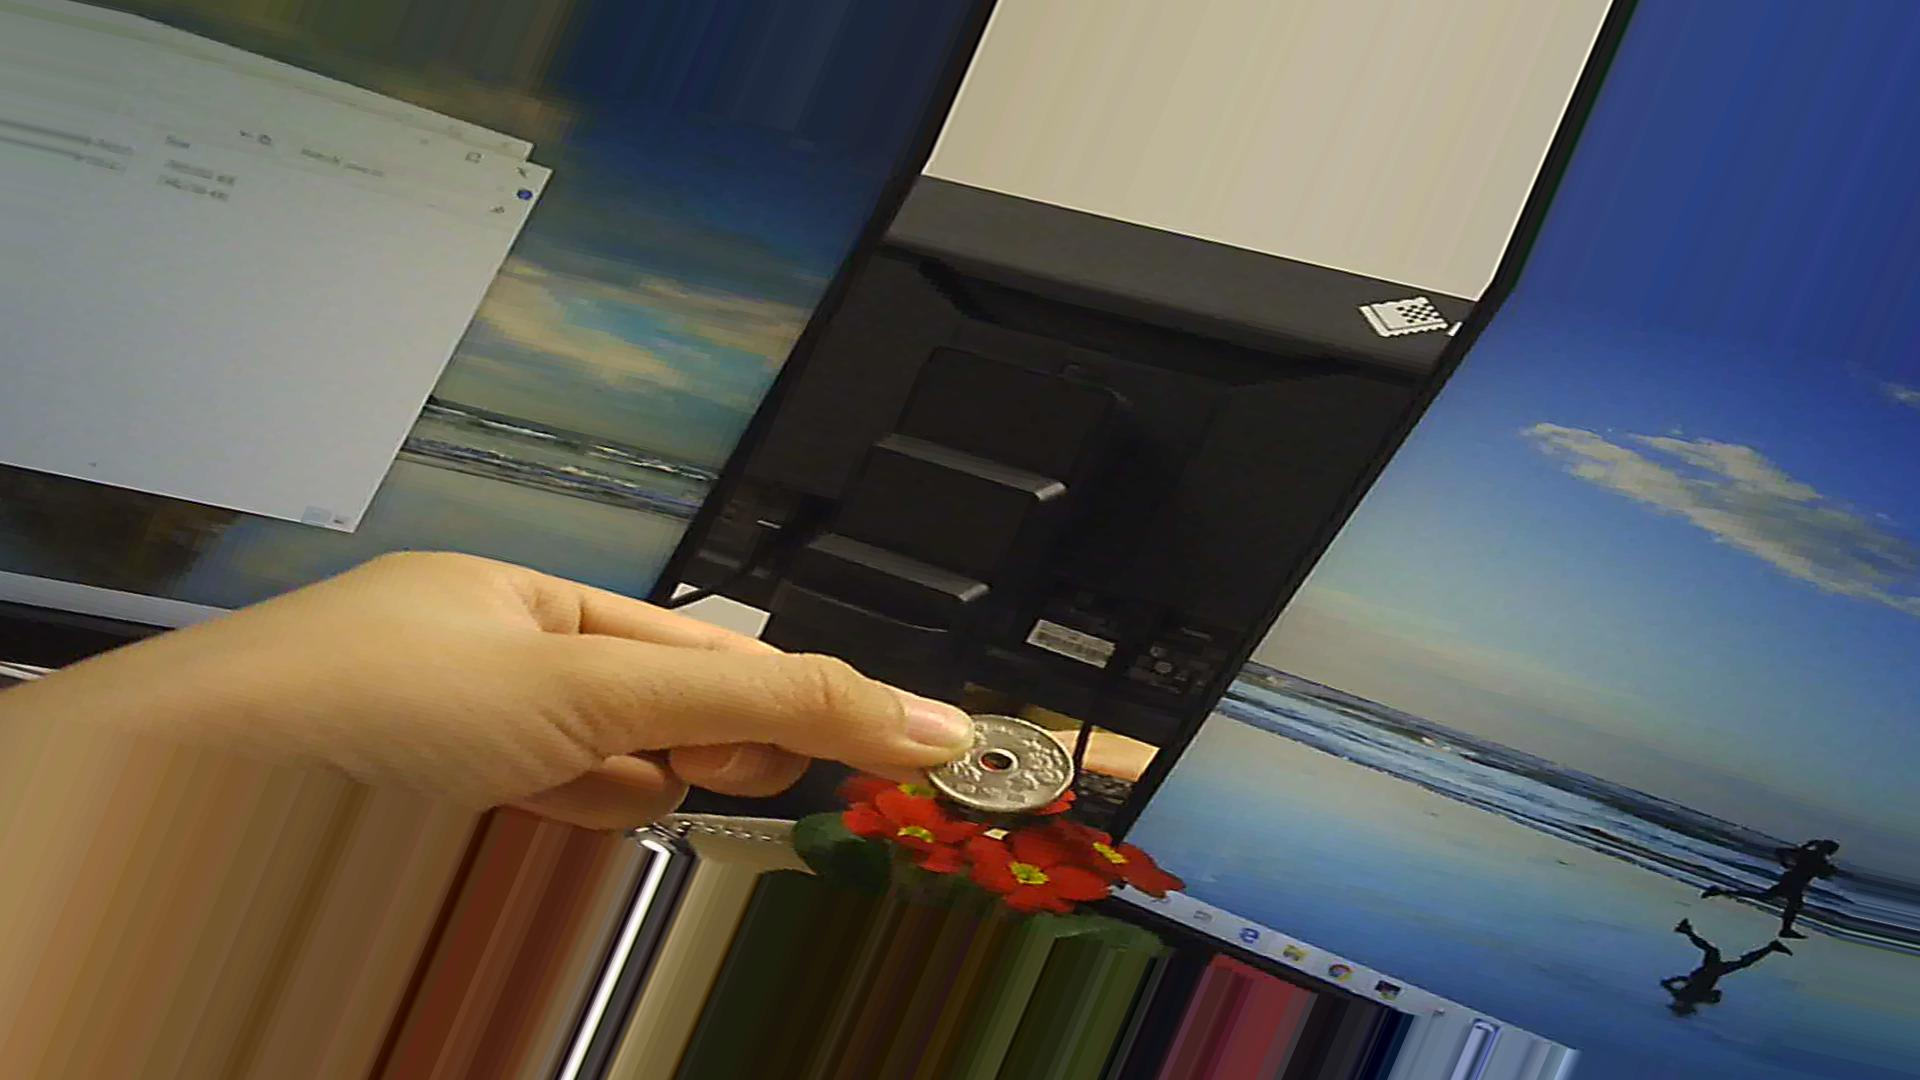50 Yen: (926, 702, 1101, 822)
